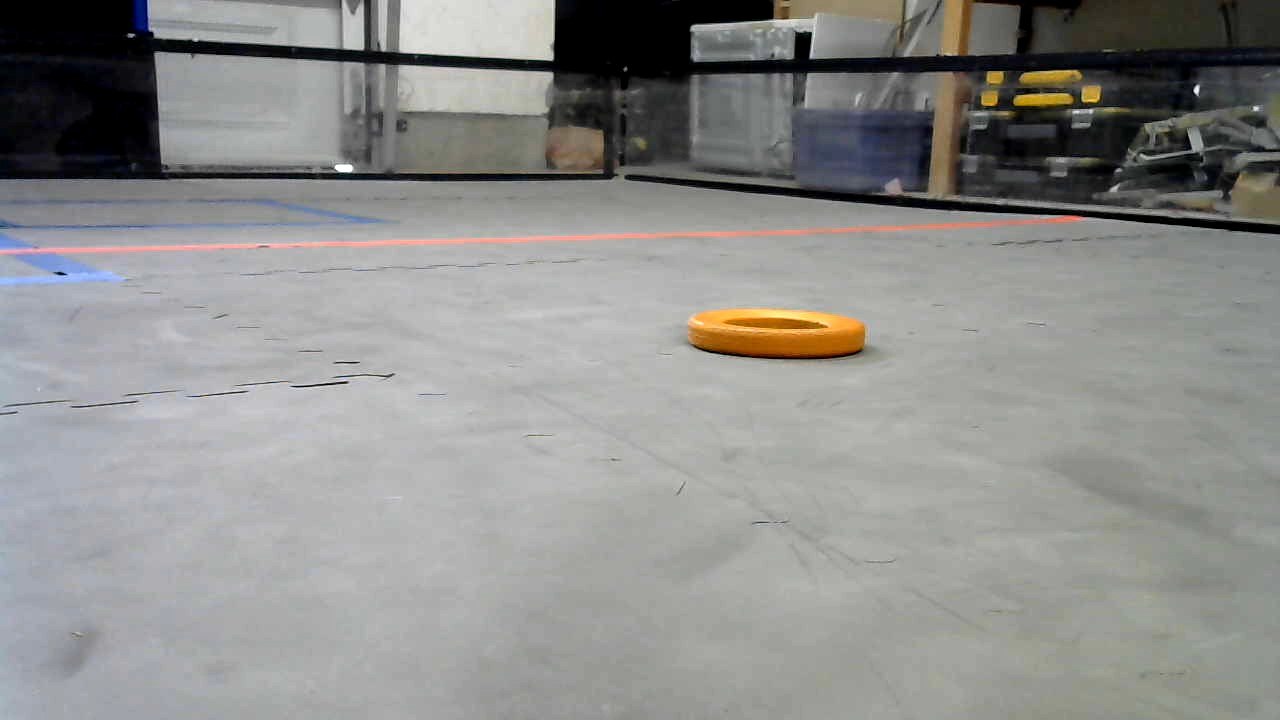OneStack: (689, 309, 867, 357)
